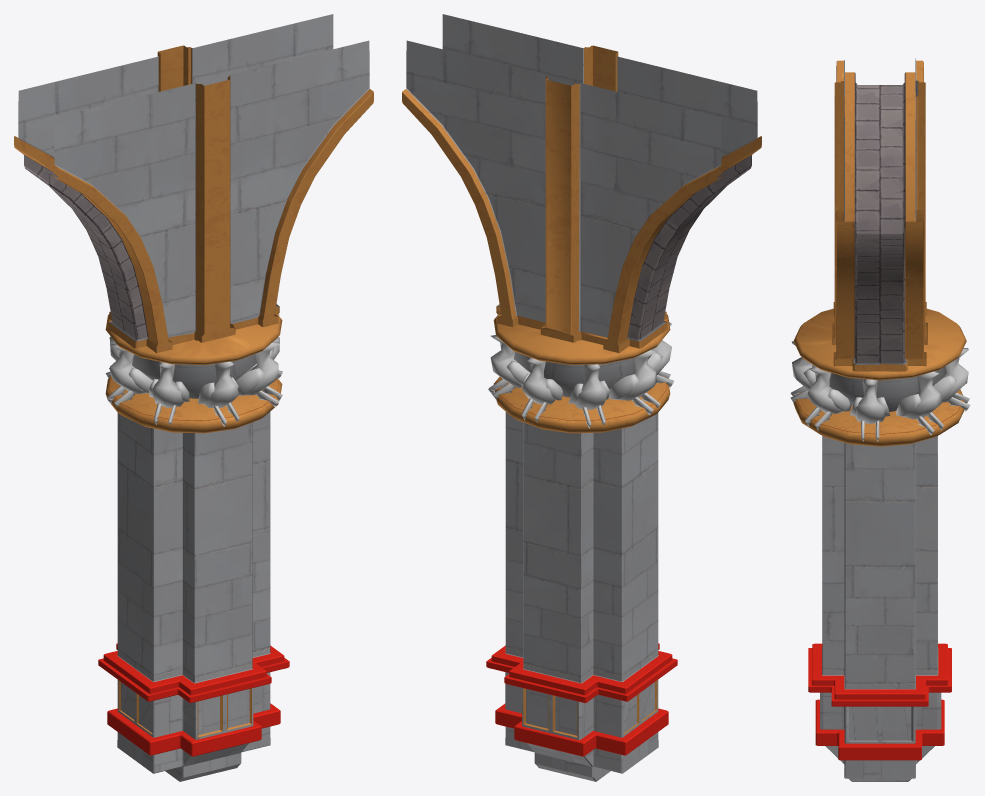
The model's file is SM_WallArchColumn_BallRoom_Small.fbx.
3 renders of one model, left to right at view 1: azimuth 30°, elevation 25°; view 2: azimuth 150°, elevation 25°; view 3: azimuth 270°, elevation 25°, orthographic. The views are drawn at different scales.
Parts seen in each view (by area): view 1: SM_WallArchColumn_BallRoom_Small; view 2: SM_WallArchColumn_BallRoom_Small; view 3: SM_WallArchColumn_BallRoom_Small.
Boxes of the visible parts, box(x1,y1,x2,y2) form: SM_WallArchColumn_BallRoom_Small: box(14, 14, 373, 781); SM_WallArchColumn_BallRoom_Small: box(402, 14, 761, 781); SM_WallArchColumn_BallRoom_Small: box(790, 58, 970, 781).
Bounding box in the file's own units: 4 × 8.48 × 2.04.
